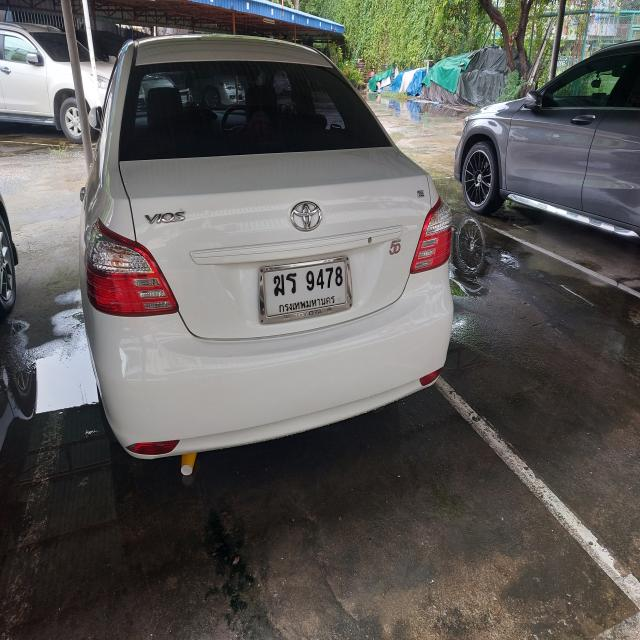license_plate: (256, 254, 354, 325)
